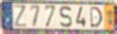4: (76, 6, 88, 29)
7: (44, 5, 57, 29), (30, 4, 41, 28)
D: (89, 6, 103, 29)
S: (59, 5, 73, 29)
Z: (13, 4, 28, 28)
